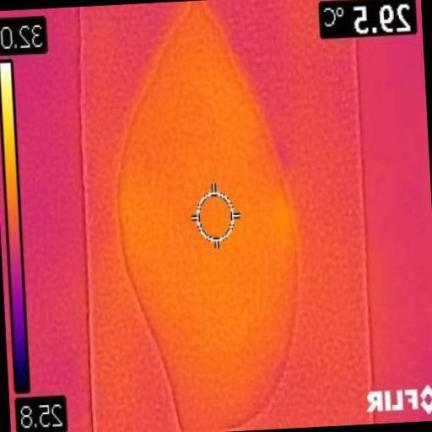mango: (118, 1, 296, 430)
